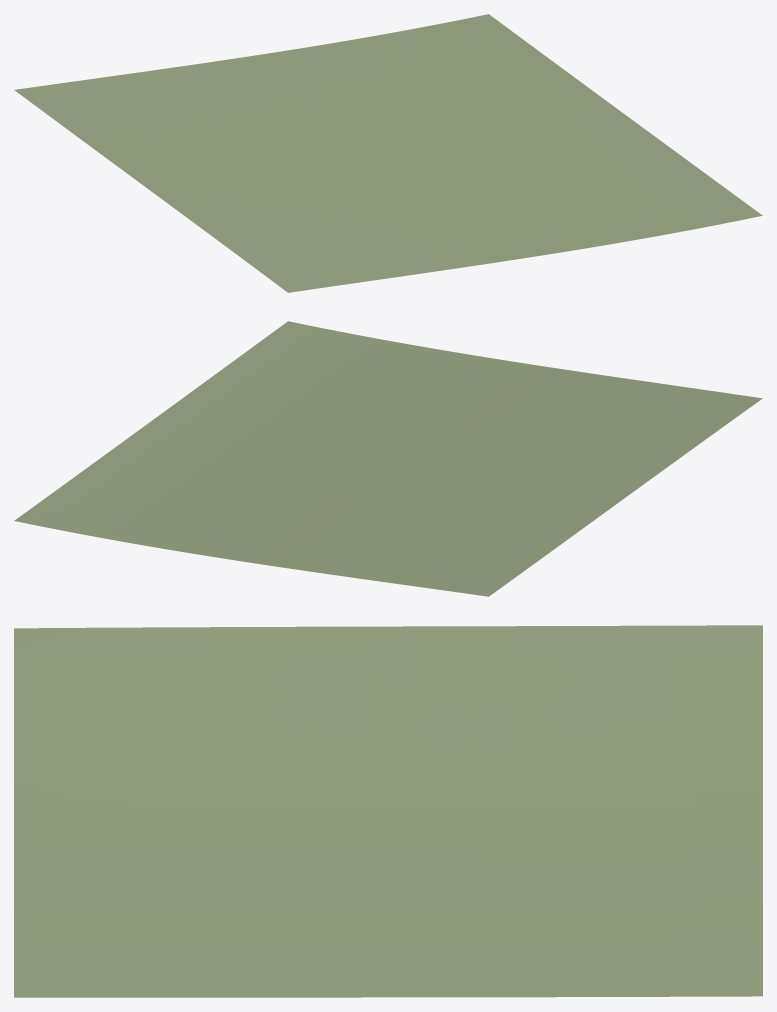
The model's file is valley-12-5.glb.
The picture shows the model from 3 angles, top to bottom: view 1: azimuth 30°, elevation 25°; view 2: azimuth 150°, elevation 25°; view 3: azimuth 270°, elevation 25°; orthographic projection. The views are drawn at different scales.
Visible parts, largest first — view 1: valley-12-5; view 2: valley-12-5; view 3: valley-12-5.
Part boxes in pixels (x1=…): valley-12-5: x1=14, y1=14, x2=762, y2=292; valley-12-5: x1=14, y1=321, x2=762, y2=596; valley-12-5: x1=14, y1=625, x2=762, y2=997.
Size of the model in its own units: 256 by 21.11 by 256.
